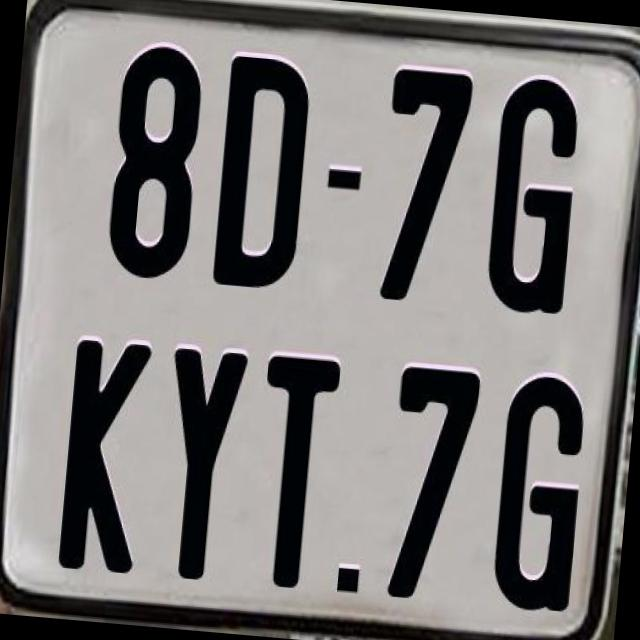7: (380, 360, 487, 606), (371, 66, 473, 304)
8: (105, 38, 212, 282)
D: (208, 51, 312, 296)
G: (482, 71, 586, 317), (488, 370, 588, 613)
K: (53, 337, 155, 575)
T: (246, 350, 342, 596)
Y: (150, 346, 248, 588)
